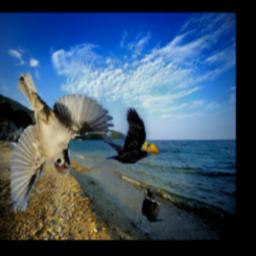Crow: (103, 108, 151, 164), (141, 187, 163, 223)
Sparrow: (11, 71, 116, 213)
